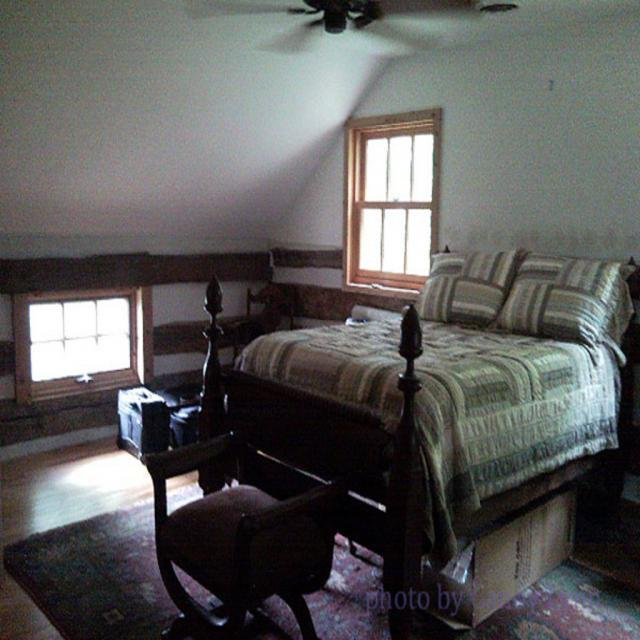Bulb: (185, 0, 481, 58)
